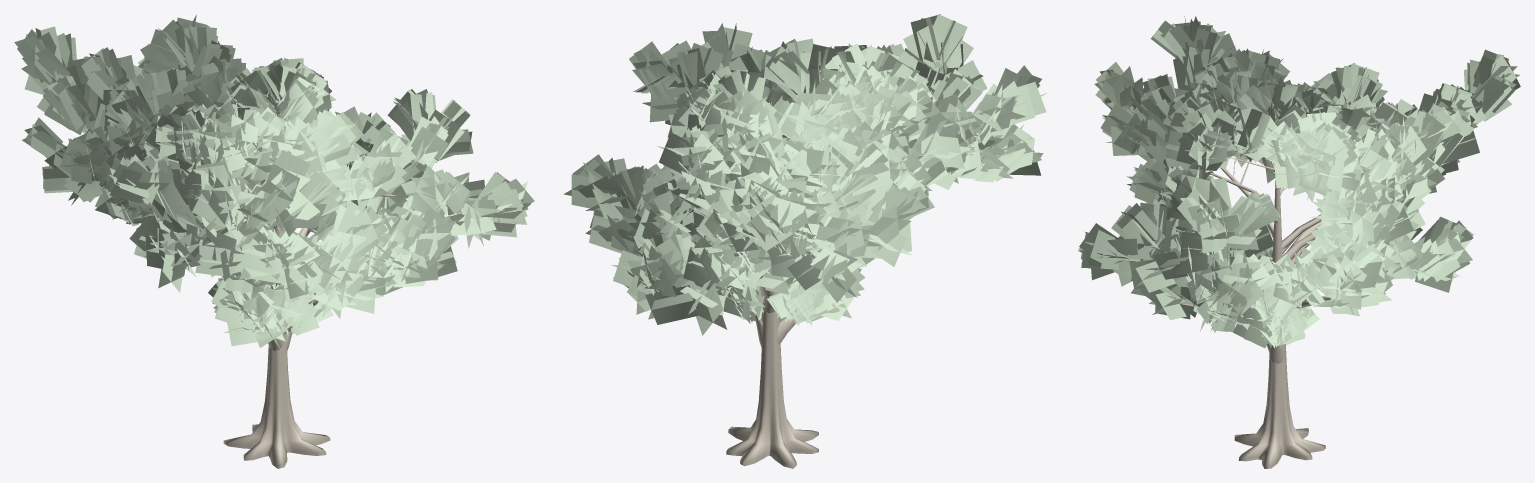
Rendered from tree-6.gltf.
3 renders of one model, left to right at view 1: azimuth 30°, elevation 25°; view 2: azimuth 150°, elevation 25°; view 3: azimuth 270°, elevation 25°, orthographic. The views are drawn at different scales.
Visible parts, largest first — view 1: TerraWeave Arbor; view 2: TerraWeave Arbor; view 3: TerraWeave Arbor.
Part boxes in pixels (x1,y1,x2,y2): TerraWeave Arbor: (14, 15, 534, 468); TerraWeave Arbor: (564, 14, 1047, 468); TerraWeave Arbor: (1078, 16, 1520, 468).
Bounding box in the file's own units: 11.7 × 11 × 12.62.
